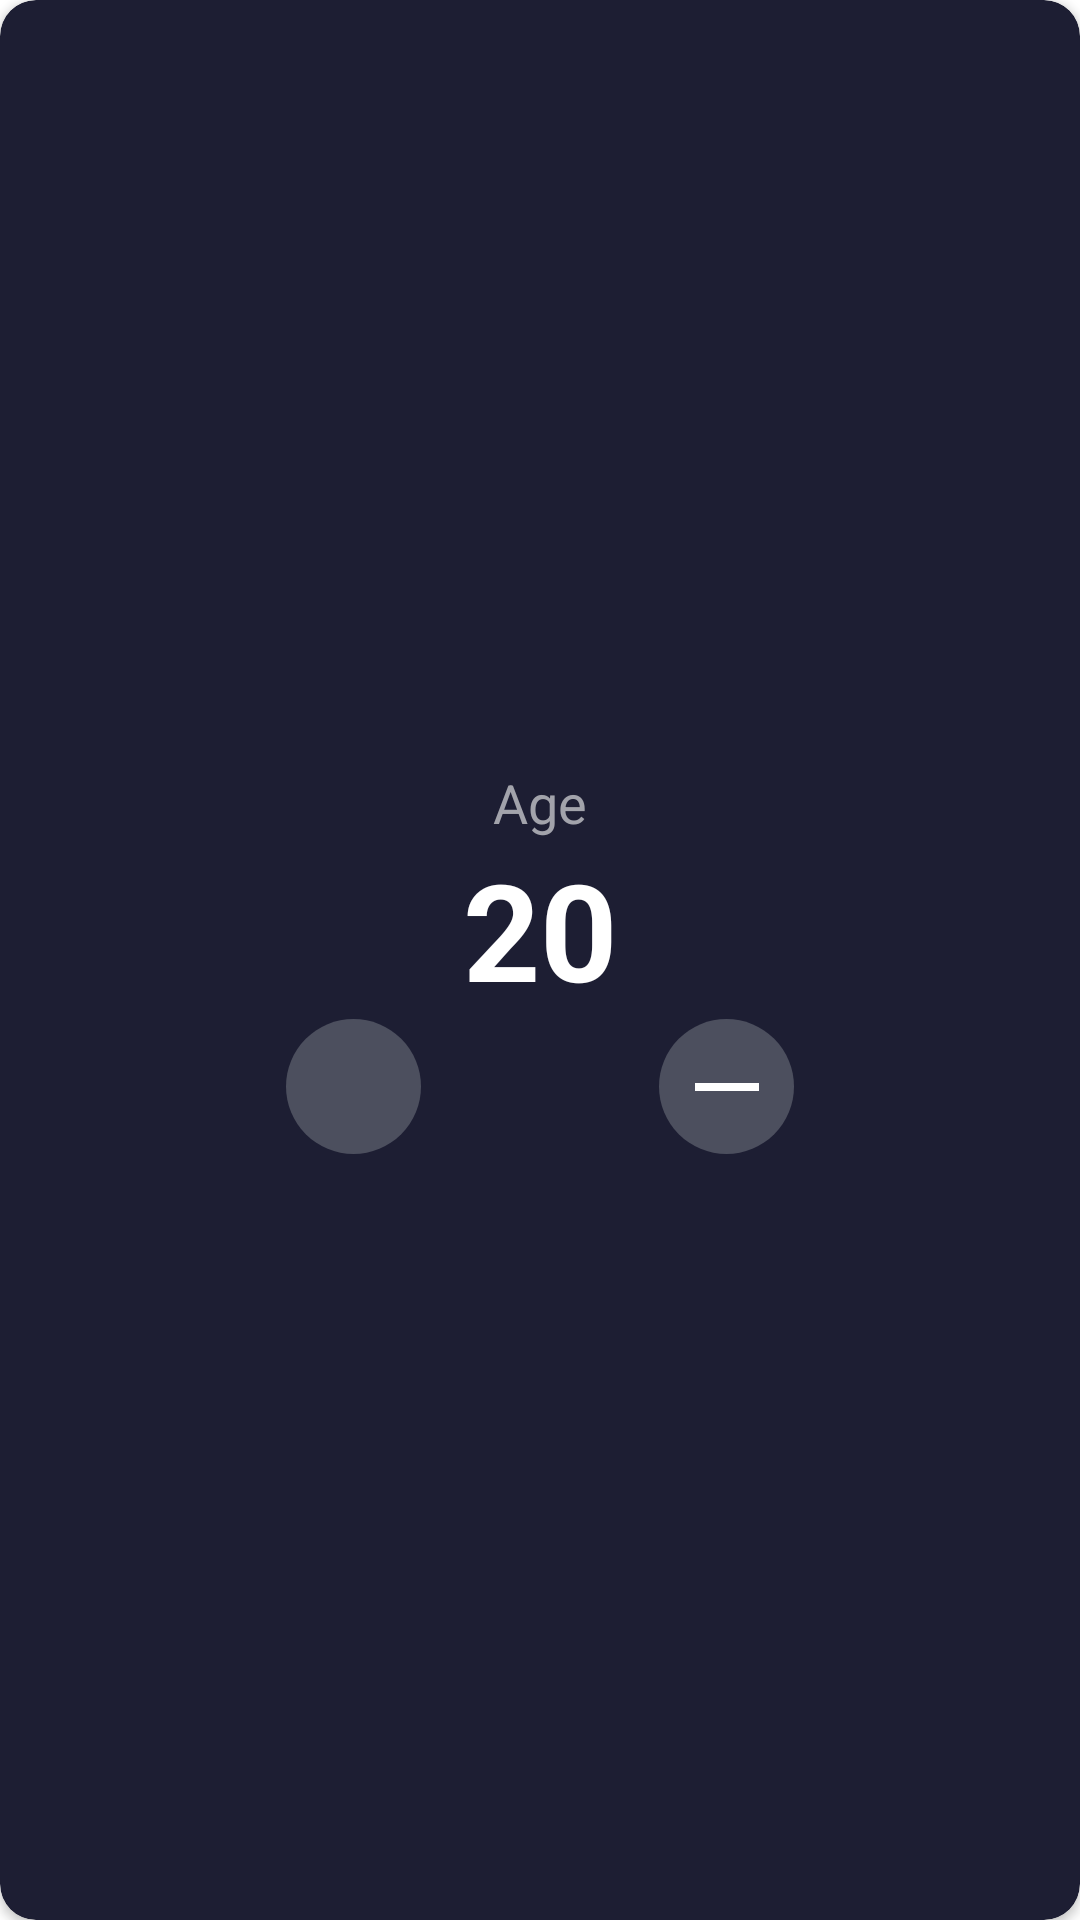

Point at icon controls on the screen. Image size 1080*1920, points as (x=x, y=y).
decrease: (x=726, y=1086)
